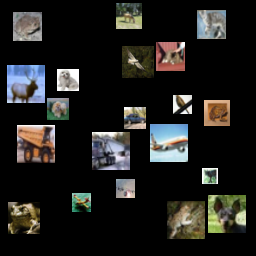airplane: (150, 124, 188, 162), (72, 193, 91, 212), (116, 179, 135, 198)
automobile: (124, 107, 146, 129)
bird: (122, 46, 154, 78), (173, 95, 192, 114)
cat: (156, 42, 185, 71), (197, 10, 226, 39), (202, 168, 218, 184)
deer: (7, 65, 45, 103)
dog: (208, 195, 246, 233), (57, 69, 79, 91), (47, 98, 69, 120)
frog: (167, 201, 205, 239), (8, 202, 40, 234), (13, 12, 42, 41), (204, 100, 230, 126)
